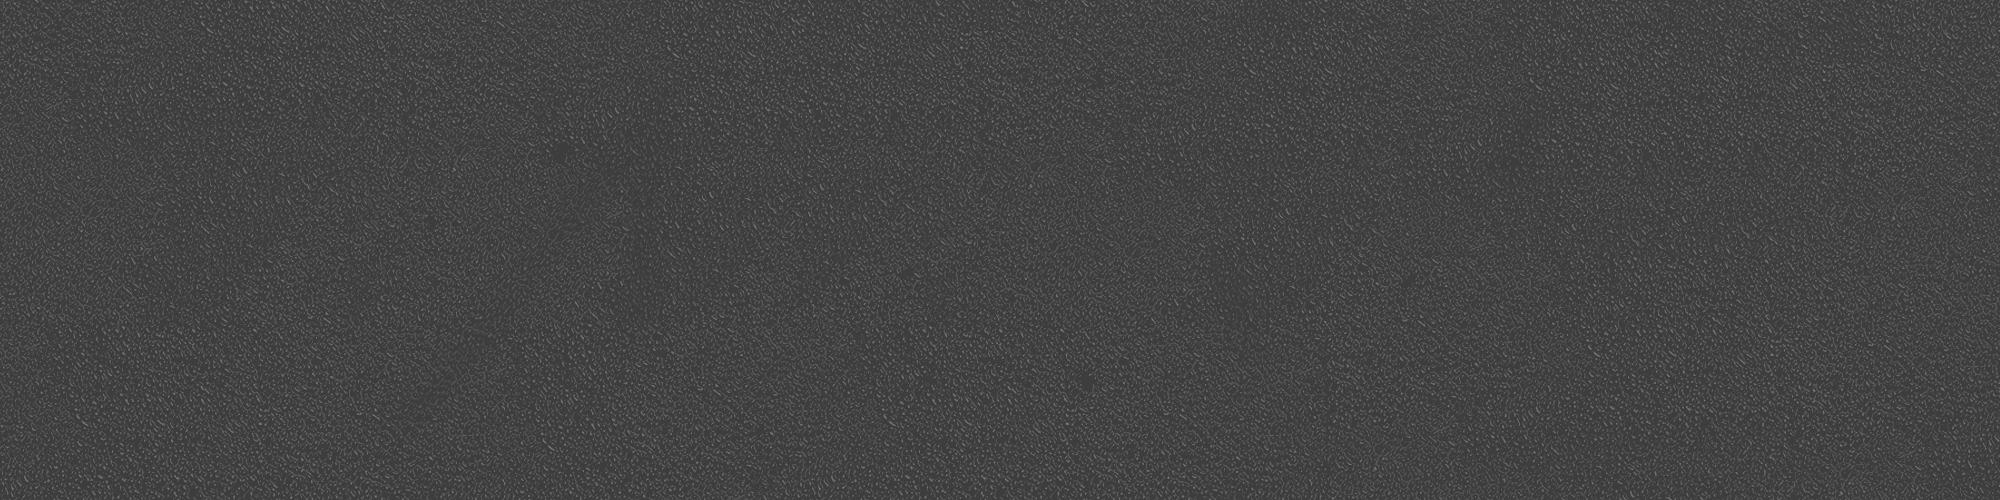Decomposed: (547, 139, 577, 165), (1077, 369, 1099, 393), (1397, 270, 1421, 290), (901, 261, 923, 279), (423, 214, 443, 232)
